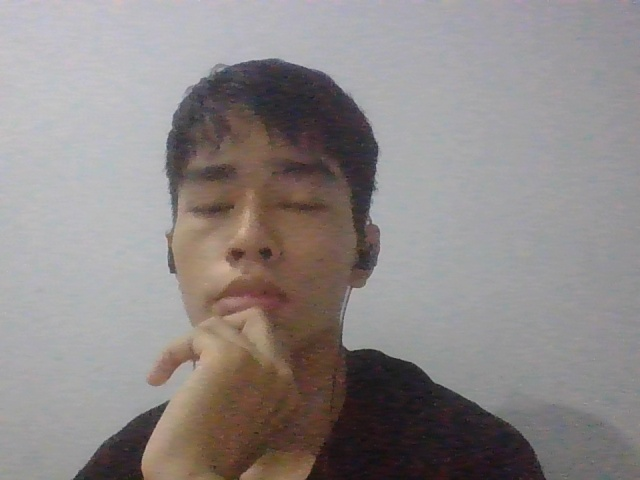real: (152, 45, 383, 373)
